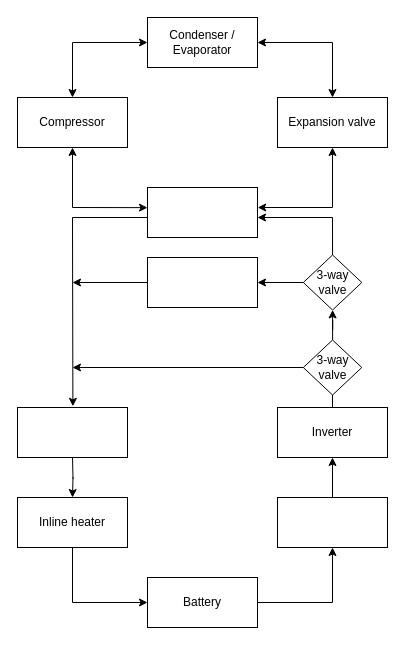
The diagram is 405 pixels wide and 645 high, and some of its shapes have lost their labels. Each missing label, with the centre of its shape:
"Heat exchanger" goes at point (202, 212).
"Motor" goes at point (332, 522).
"Pump" goes at point (72, 432).
"Radiator" goes at point (202, 282).
